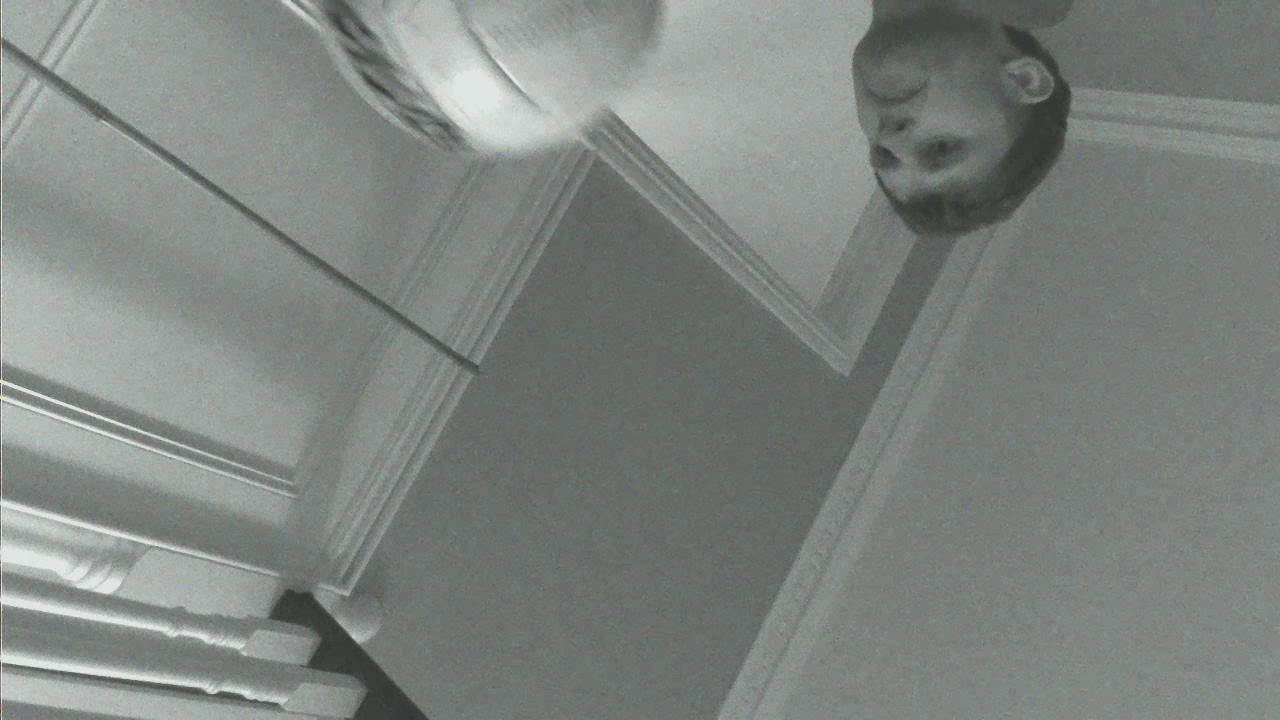Football-Spotter: (305, 0, 662, 154)
